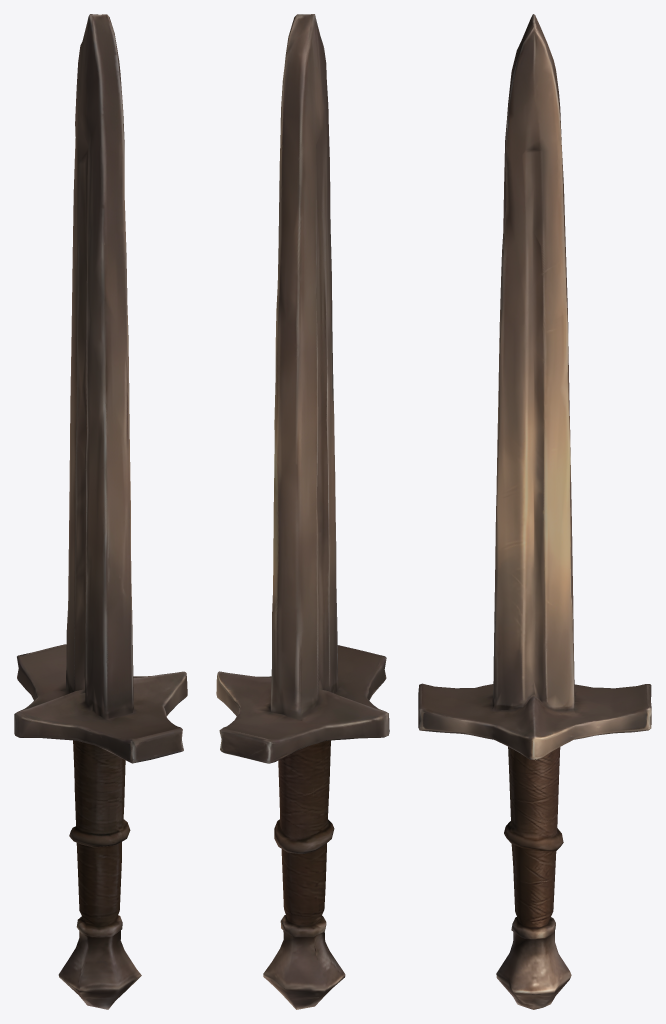
File: espada-duas-maos.glb
3 views of the same model, side by side, from view 1: azimuth 30°, elevation 25°; view 2: azimuth 150°, elevation 25°; view 3: azimuth 270°, elevation 25° (orthographic).
Visible parts, largest first — view 1: tripo_node_f61d25b7-155e-4308-925b-cc3b4ed1aadf; view 2: tripo_node_f61d25b7-155e-4308-925b-cc3b4ed1aadf; view 3: tripo_node_f61d25b7-155e-4308-925b-cc3b4ed1aadf.
Boxes of the visible parts, x1,y1,x2,y2 form: tripo_node_f61d25b7-155e-4308-925b-cc3b4ed1aadf: (14, 14, 187, 1009); tripo_node_f61d25b7-155e-4308-925b-cc3b4ed1aadf: (216, 14, 389, 1009); tripo_node_f61d25b7-155e-4308-925b-cc3b4ed1aadf: (418, 14, 651, 1009).
Size of the model in its own units: 0.1355 by 0.75 by 0.161.
Materials: 1 (1 with a texture image).
